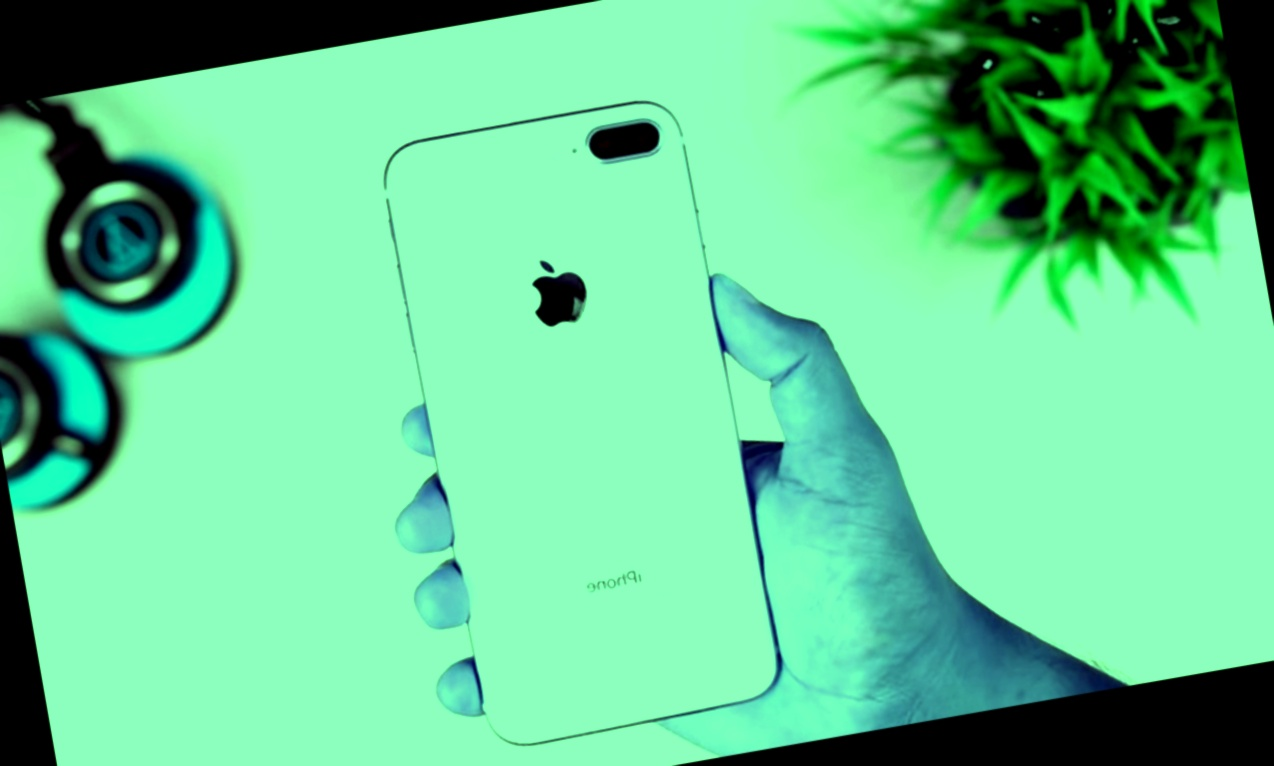iphone: (508, 3, 908, 660)
